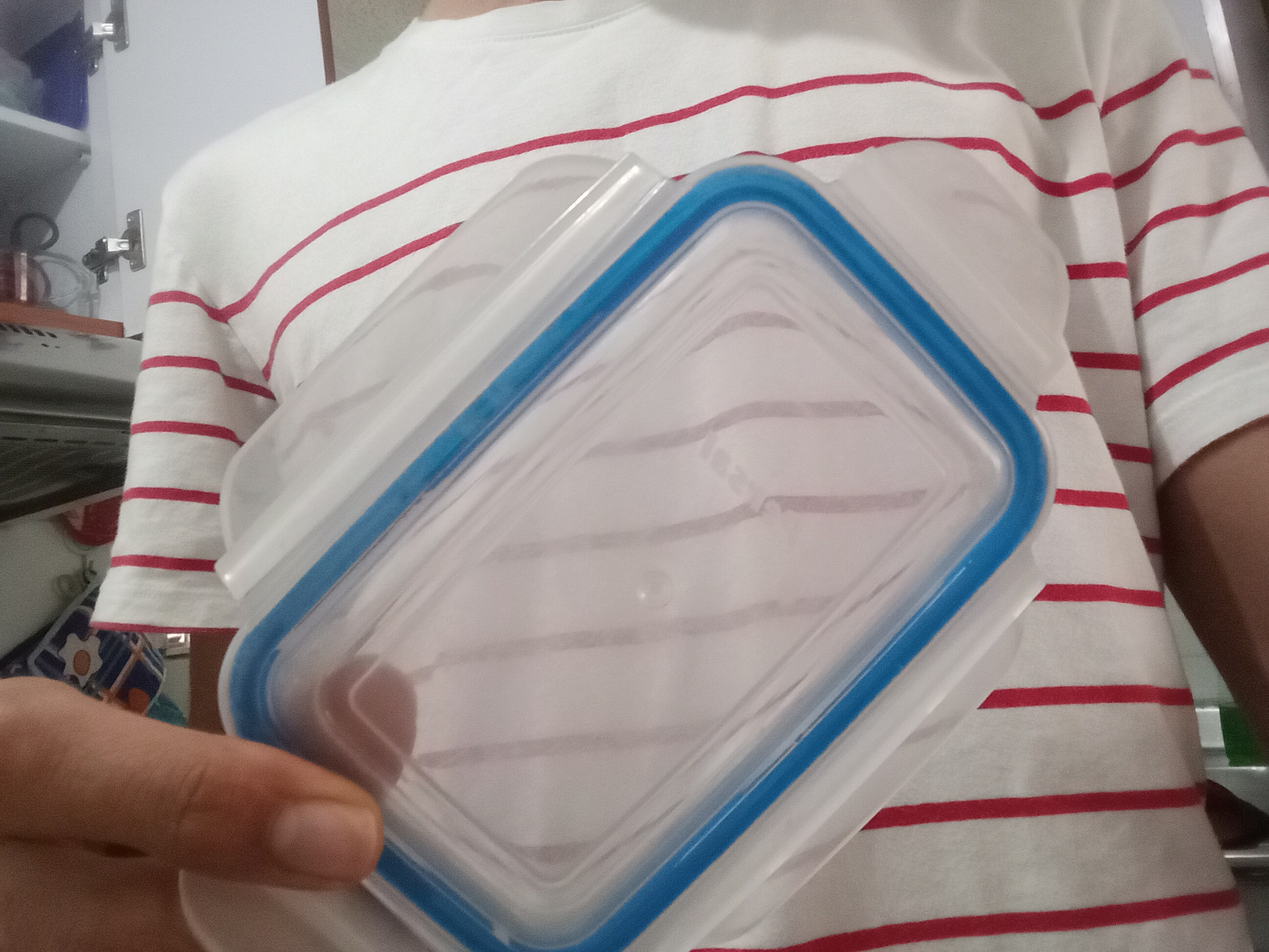Plastico: (179, 139, 1070, 952)
